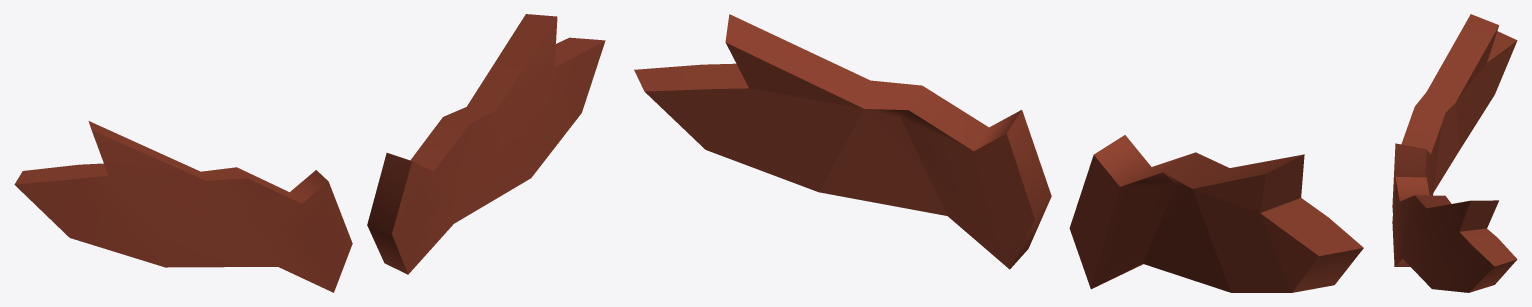
Rendered from Brow_Brown_12.fbx.
3 views of the same model, side by side, from view 1: azimuth 30°, elevation 25°; view 2: azimuth 150°, elevation 25°; view 3: azimuth 270°, elevation 25° (orthographic). The views are drawn at different scales.
Visible parts, largest first — view 1: Brow_Brown_12; view 2: Brow_Brown_12; view 3: Brow_Brown_12.
Boxes of the visible parts, left/top/right/bottom form: Brow_Brown_12: left=14, top=14, right=605, bottom=292; Brow_Brown_12: left=634, top=14, right=1363, bottom=292; Brow_Brown_12: left=1392, top=14, right=1517, bottom=292.
Bounding box in the file's own units: 50.7 × 14.59 × 11.32.
